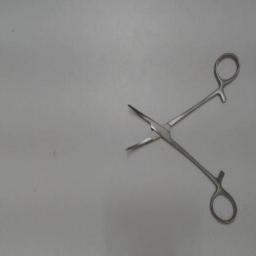Crile Artery Forceps: (120, 49, 244, 227)
